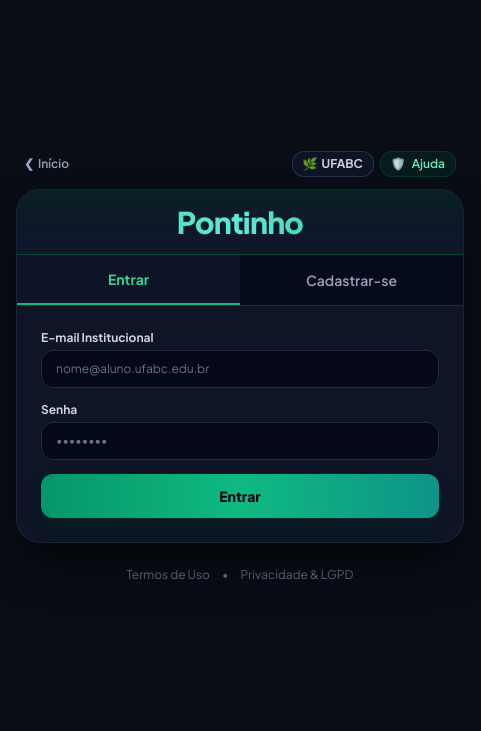
Test: LoginPage Component › switches to register tab when clicking Cadastrar-se
Click the button "Cadastrar-se". click: (352, 280)
box: [240,255,463,305]
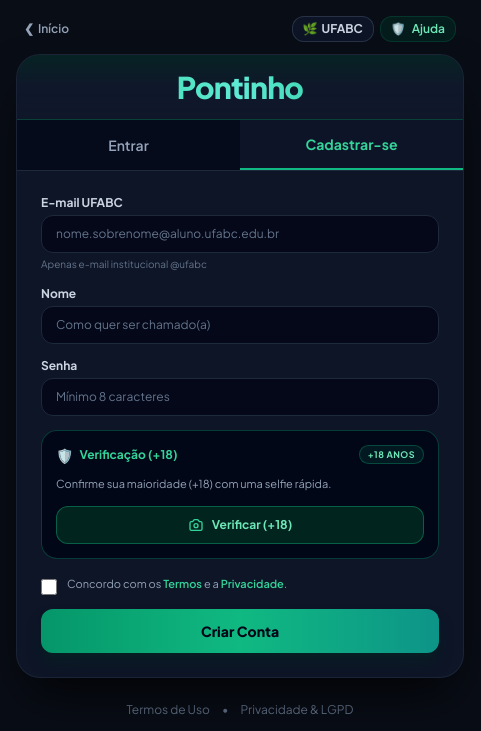
Now the field with placeholder "Como quer ser chamado(a)" is shown, box [41,306,439,344]
Now the field with placeholder "nome.sobrenome@aluno.ufabc.edu.br" is shown, box [41,215,439,253]
Now the button "Criar Conta" is shown, box [41,609,439,653]
